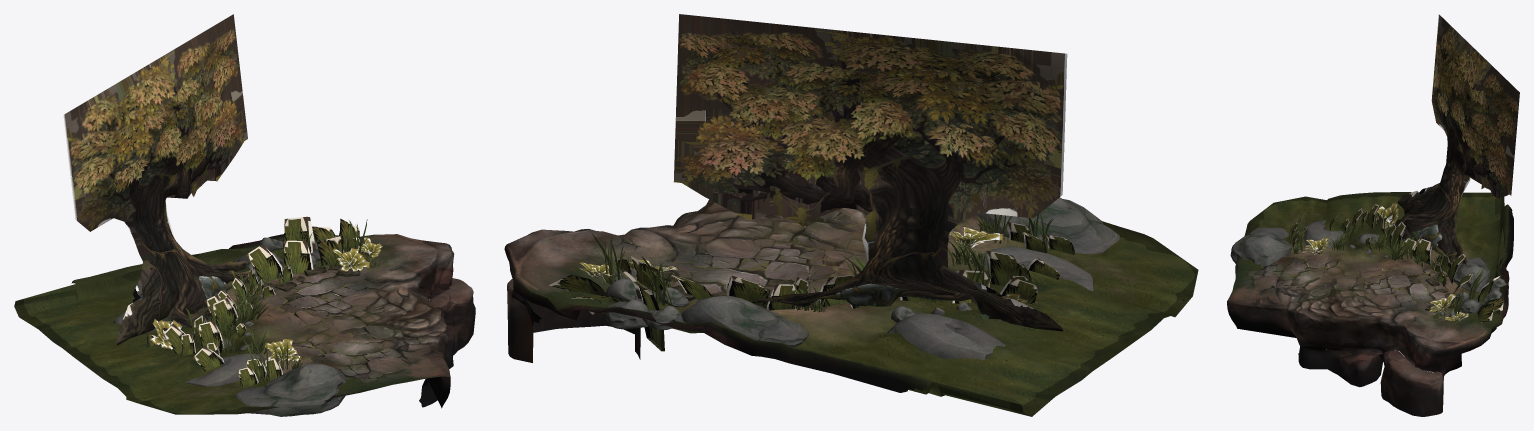
3 views of the same model, side by side, from view 1: azimuth 30°, elevation 25°; view 2: azimuth 150°, elevation 25°; view 3: azimuth 270°, elevation 25° (orthographic). The views are drawn at different scales.
Visible parts, largest first — view 1: pod_01, drvo, biljke_01, kamen, biljke_3d_01; view 2: drvo, pod_01, kamen, biljke_01, biljke_3d_01; view 3: pod_01, drvo, kamen, biljke_01, biljke_3d_01.
Part boxes in pixels (box(x1,y1,x2,y2)): pod_01: box(14, 234, 475, 414); drvo: box(63, 14, 256, 345); biljke_01: box(146, 216, 382, 388); kamen: box(113, 237, 364, 416); biljke_3d_01: box(184, 217, 379, 370); drvo: box(673, 14, 1067, 331); pod_01: box(504, 199, 1198, 416); kamen: box(605, 197, 1119, 359); biljke_01: box(549, 222, 1074, 351); biljke_3d_01: box(592, 214, 1012, 310); pod_01: box(1227, 192, 1513, 416); drvo: box(1395, 14, 1519, 267); kamen: box(1230, 220, 1508, 317); biljke_01: box(1290, 202, 1503, 322); biljke_3d_01: box(1291, 204, 1487, 318).
Size of the model in its own units: 8.63 by 6.56 by 6.63.
Materials: 3 (3 with a texture image).
